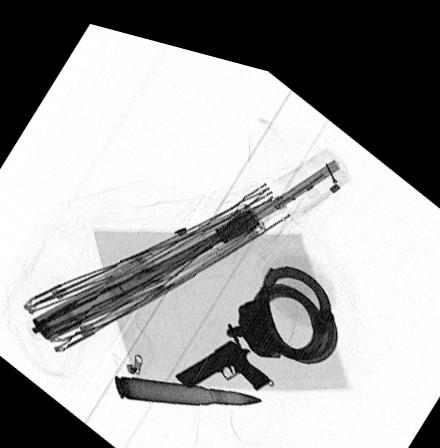Bullet: (113, 369, 261, 394)
Gun: (174, 325, 272, 379)
HandCuffs: (222, 249, 337, 348)
